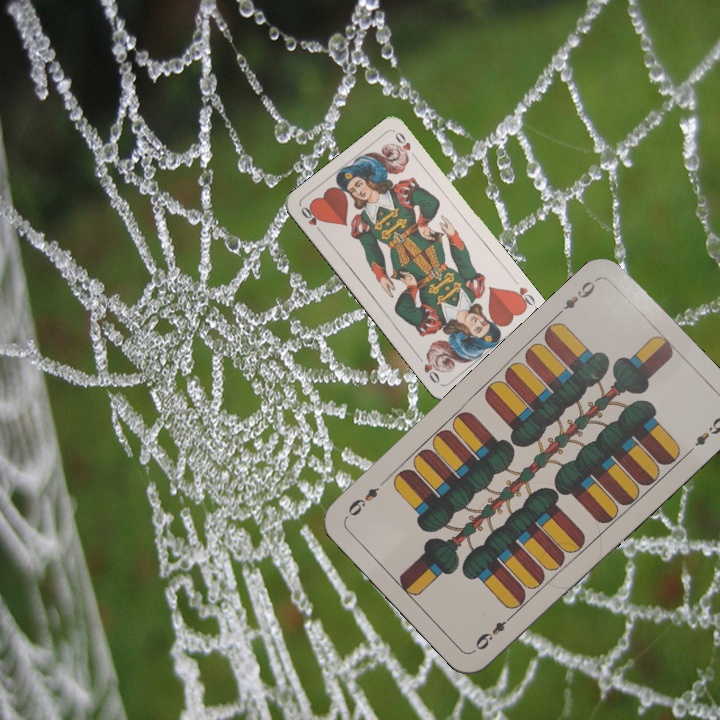E9: (553, 274, 601, 319), (471, 609, 517, 653)
HO: (297, 202, 326, 237), (508, 283, 539, 311)
